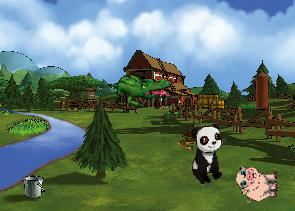crocodile: (106, 62, 174, 115)
panda: (189, 123, 225, 185)
pig: (236, 163, 279, 203)
